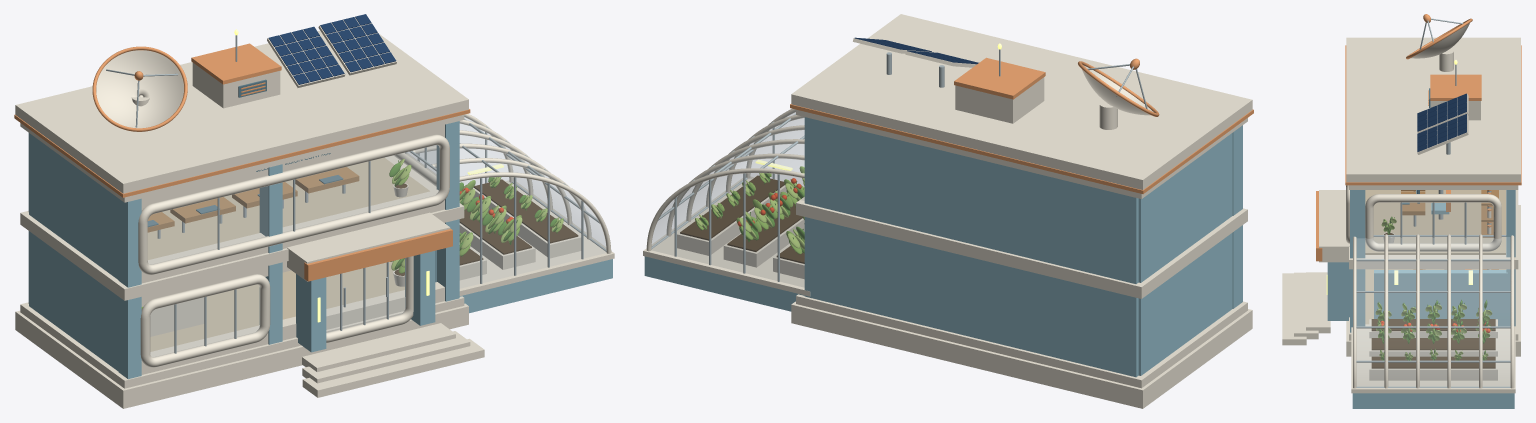
The model's file is center.glb.
3 renders of one model, left to right at view 1: azimuth 30°, elevation 25°; view 2: azimuth 150°, elevation 25°; view 3: azimuth 270°, elevation 25°, orthographic. The views are drawn at different scales.
Visible parts, largest first — view 1: Cream roof cap, West blue wall, Panoramic mission window glass, Greenhouse glazed end, Panoramic mission window cream surround, Cream rounded foundation, Interior sand floor.001, Interior sand floor, Parabolic communications reflector, Ground research window glass, Round structural deck.001, Glass airlock doors glass (+39 smaller); view 2: Rear blue wall, Cream roof cap, West blue wall, Greenhouse glazed end.001, Cream rounded foundation, Round structural deck.001, Round structural deck, Vaulted clear conservatory glazing, Conservatory cream sill, Conservatory blue plinth, Round structural deck.002, Utility orange trim (+13 smaller); view 3: Cream roof cap, Vaulted clear conservatory glazing, East greenhouse connection wall, Interior sand floor.001, East observation window glass, Conservatory cream sill, East observation window cream surround, Conservatory blue plinth, Round structural deck.001, Rounded cream entry canopy, Rounded blue facade pier.002, Hydroponic growing trough.002 (+36 smaller).
Part boxes in pixels (x1,y1,x2,y2): Cream roof cap: (15, 30, 468, 193); West blue wall: (29, 133, 118, 371); Panoramic mission window glass: (148, 145, 439, 264); Greenhouse glazed end: (460, 177, 606, 288); Panoramic mission window cream surround: (138, 134, 449, 274); Cream rounded foundation: (15, 303, 468, 408); Interior sand floor.001: (147, 157, 429, 259); Interior sand floor: (150, 261, 404, 351); Parabolic communications reflector: (96, 50, 183, 128); Ground research window glass: (150, 285, 259, 356); Round structural deck.001: (20, 155, 464, 300); Glass airlock doors glass: (326, 258, 405, 332); Rear blue wall: (804, 117, 1138, 377); Cream roof cap: (791, 14, 1252, 189); West blue wall: (1138, 133, 1232, 375); Greenhouse glazed end.001: (651, 173, 804, 286); Cream rounded foundation: (791, 301, 1252, 408); Round structural deck.001: (796, 197, 1247, 298); Round structural deck: (796, 294, 1247, 388); Vaulted clear conservatory glazing: (652, 110, 804, 245); Conservatory cream sill: (643, 176, 810, 296); Conservatory blue plinth: (644, 256, 804, 311); Round structural deck.002: (796, 109, 1247, 198); Utility orange trim: (954, 57, 1045, 99); Cream roof cap: (1346, 37, 1520, 182); Vaulted clear conservatory glazing: (1357, 237, 1510, 386); East greenhouse connection wall: (1374, 270, 1507, 326); Interior sand floor.001: (1365, 190, 1505, 254); East observation window glass: (1374, 203, 1493, 242); Conservatory cream sill: (1351, 324, 1515, 393); East observation window cream surround: (1365, 194, 1501, 251); Conservatory blue plinth: (1352, 393, 1514, 408); Round structural deck.001: (1349, 190, 1518, 269); Rounded cream entry canopy: (1319, 190, 1349, 262); Rounded blue facade pier.002: (1350, 190, 1365, 332); Hydroponic growing trough.002: (1369, 356, 1497, 380).
Bounding box in the file's own units: 12.47 × 6.89 × 6.44.
